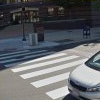crosswalk: (0, 49, 89, 100)
